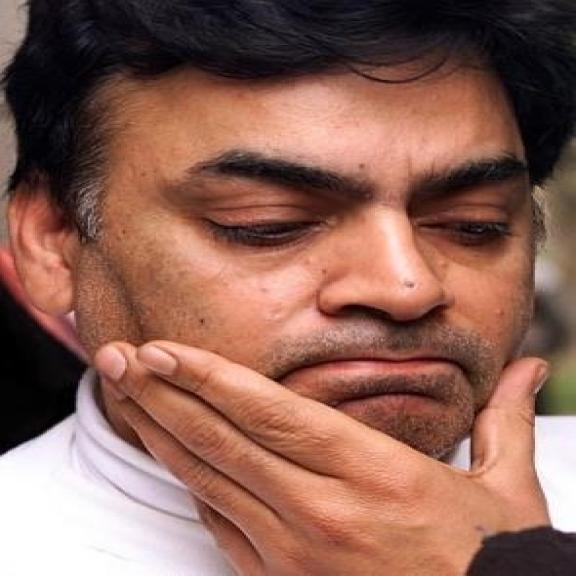face: (11, 14, 566, 493)
